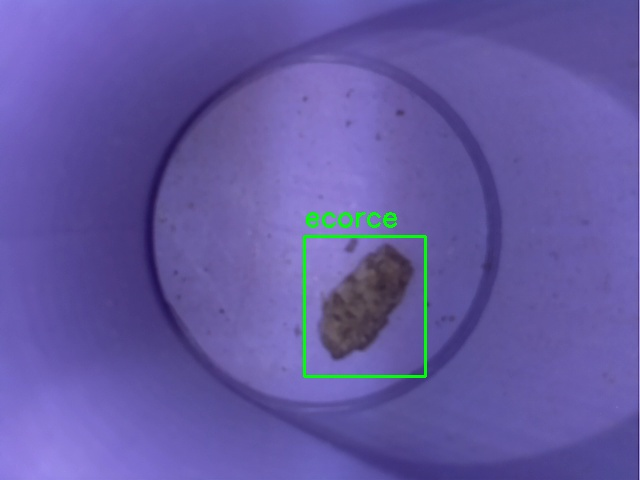ecorce: (304, 236, 425, 376)
